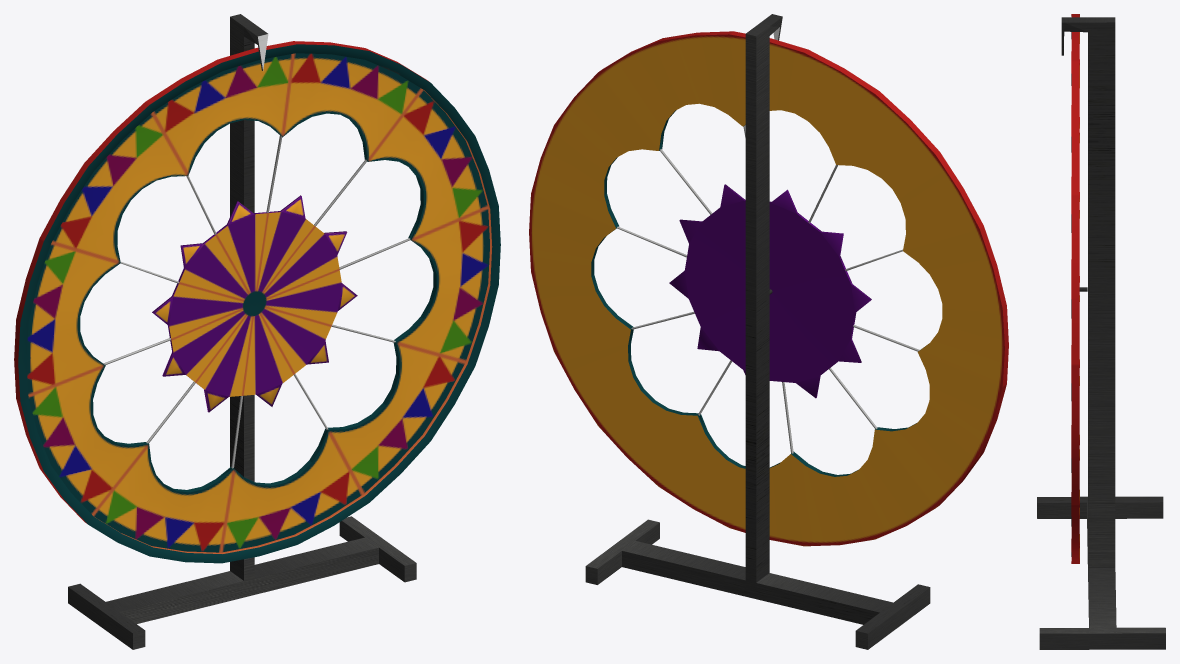
The model's file is spinner.fbx.
3 renders of one model, left to right at view 1: azimuth 30°, elevation 25°; view 2: azimuth 150°, elevation 25°; view 3: azimuth 270°, elevation 25°, orthographic.
Parts seen in each view (by area): view 1: polySurface2, polySurface1; view 2: polySurface2, polySurface1; view 3: polySurface1, polySurface2.
Boxes of the visible parts, box(x1,y1,x2,y2) form: polySurface2: box(14, 41, 500, 563); polySurface1: box(68, 14, 416, 649); polySurface2: box(529, 31, 1008, 546); polySurface1: box(585, 14, 930, 649); polySurface1: box(1037, 17, 1165, 649); polySurface2: box(1071, 14, 1087, 563).
Bounding box in the file's own units: 6.17 × 6.97 × 1.45.
